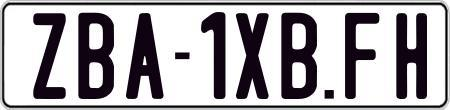1: (201, 12, 231, 101)
A: (123, 12, 160, 102)
B: (281, 10, 321, 96), (76, 13, 113, 100)
F: (344, 13, 381, 101)
H: (393, 13, 426, 102)
X: (234, 11, 272, 103)
Z: (32, 13, 70, 101)
